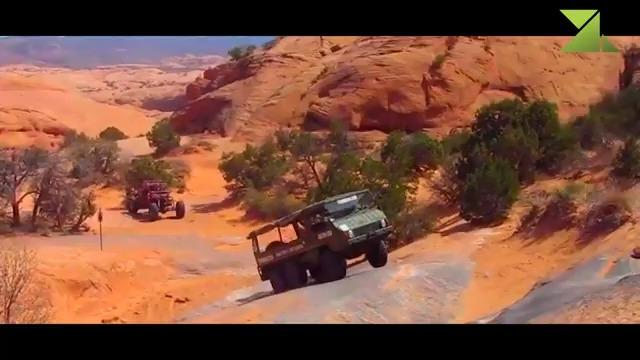MIL_HMMWV: (245, 186, 396, 296)
